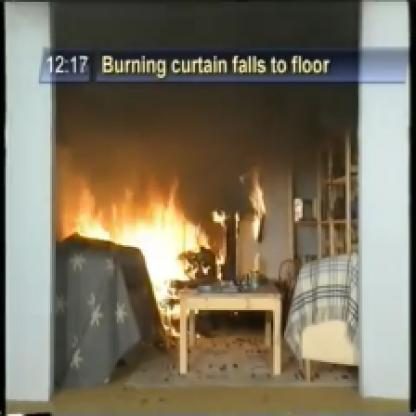fire: (60, 137, 197, 322), (180, 158, 278, 304)
